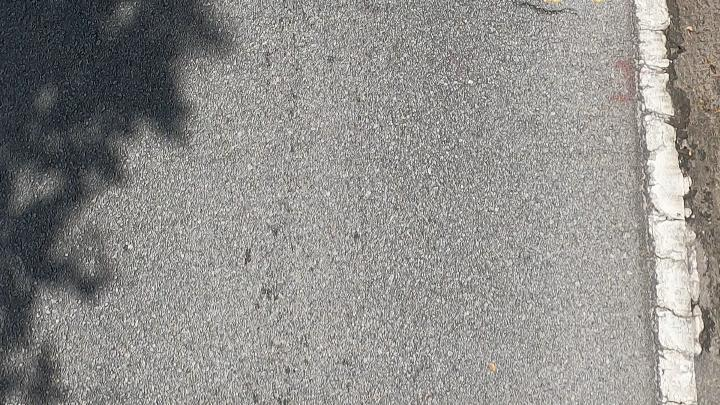Lane: (634, 0, 705, 405), (634, 0, 703, 404)
